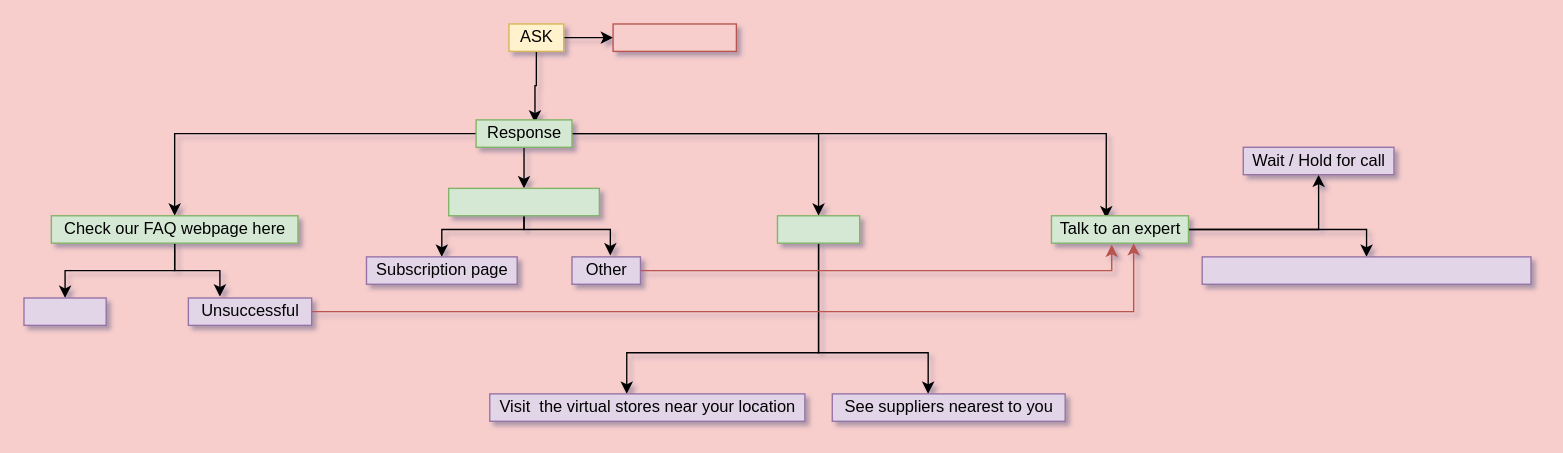
Some shapes in this 1563 by 453 pixel diagram are drawn without their labels. Each missing label, with the centre of its shape:
Location: (x=818, y=228)
NO Response: (x=674, y=37)
Pricing and Billing: (x=523, y=201)
Success: (x=64, y=311)
Text / sms when technicians are available: (x=1366, y=270)
